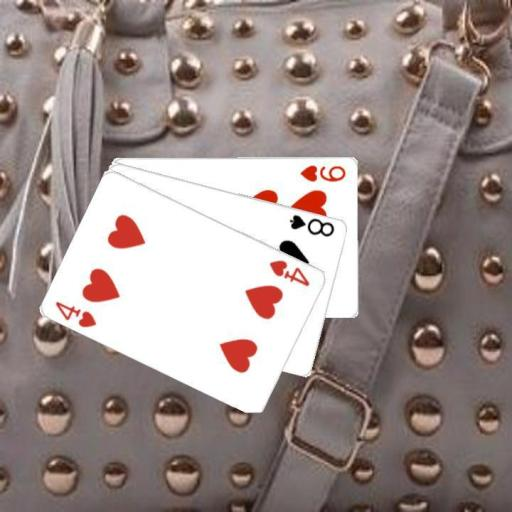card-corner: (266, 257, 312, 288), (52, 298, 98, 329), (286, 211, 336, 238), (297, 161, 348, 183)
